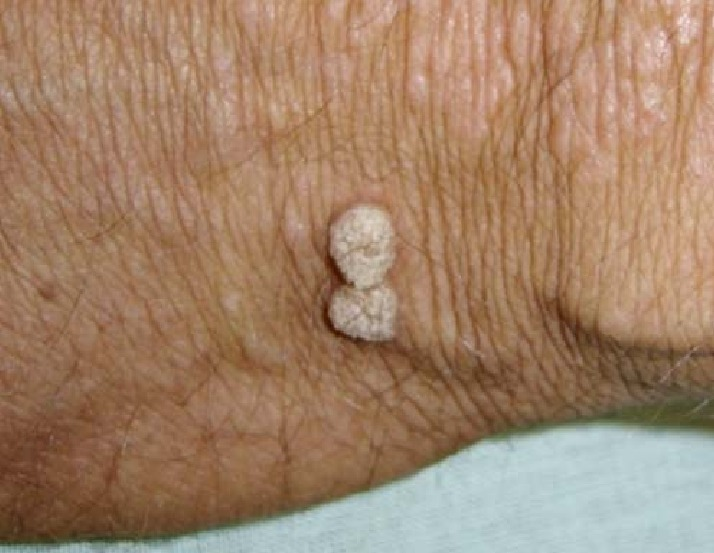Warts: (320, 193, 407, 347)
